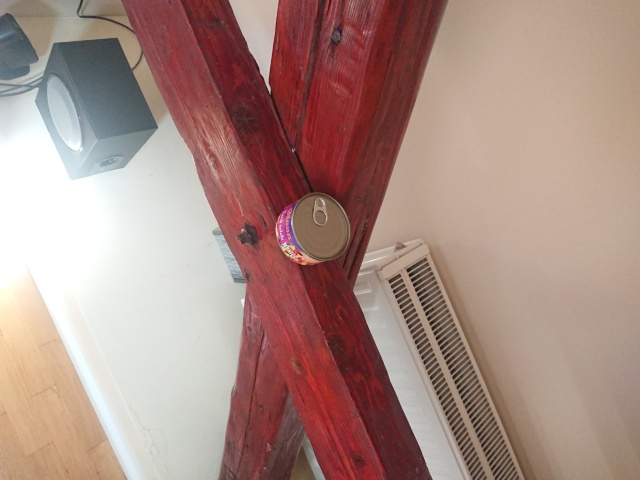Giana Tuna Salad Mexico 185g: (274, 189, 353, 268)
